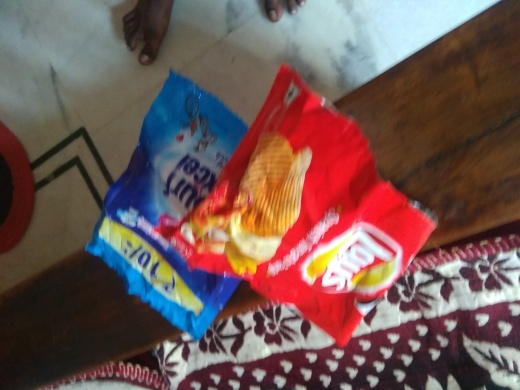lays: (191, 71, 435, 359)
surf: (97, 63, 257, 345)
